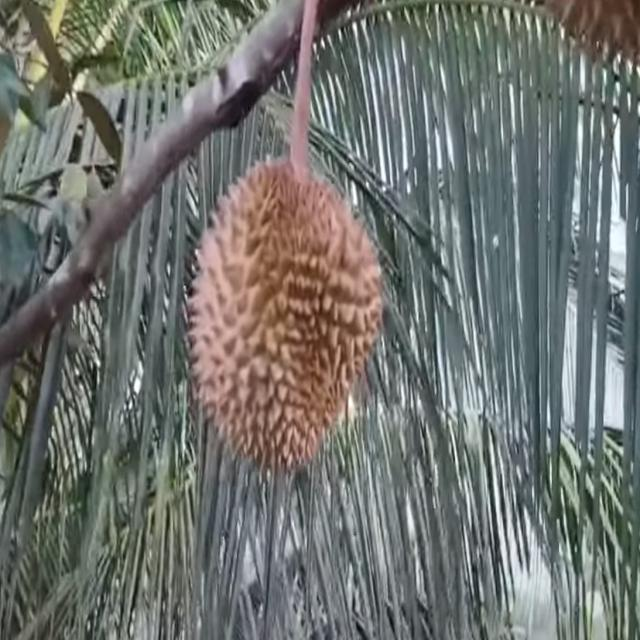mature: (180, 156, 386, 471)
